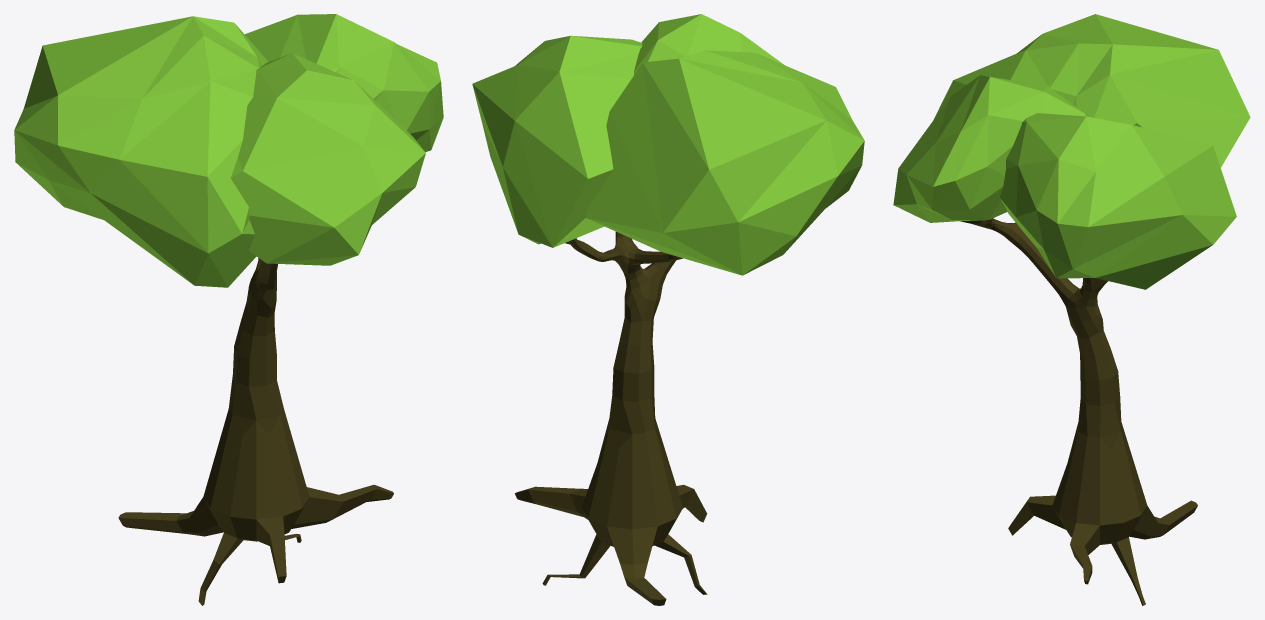
File: Tree.fbx
3 renders of one model, left to right at view 1: azimuth 30°, elevation 25°; view 2: azimuth 150°, elevation 25°; view 3: azimuth 270°, elevation 25°, orthographic. The views are drawn at different scales.
Parts seen in each view (by area): view 1: Icosphere; view 2: Icosphere; view 3: Icosphere.
Part boxes in pixels (box(x1,y1,x2,y2)): Icosphere: box(14, 14, 443, 605); Icosphere: box(472, 14, 864, 605); Icosphere: box(893, 14, 1250, 605).
Size of the model in its own units: 875 by 1189 by 752.
